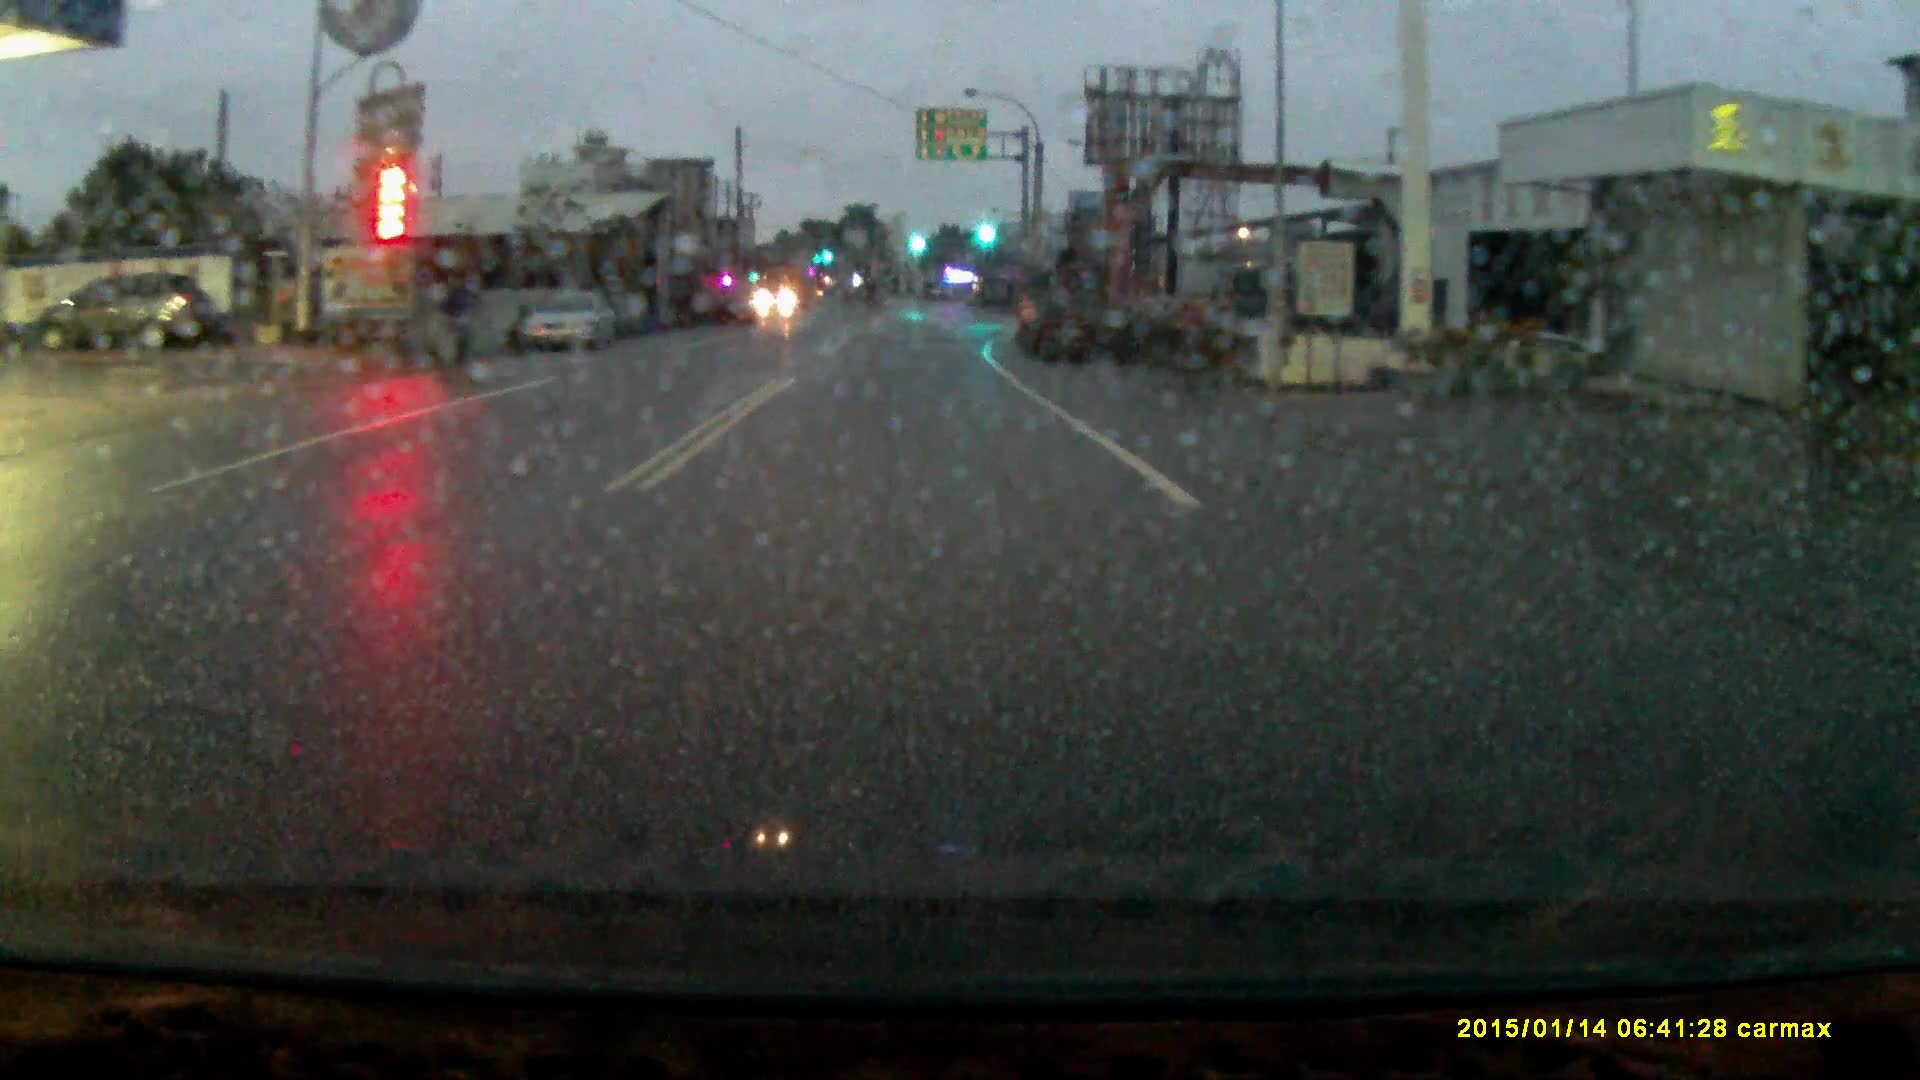rider: (398, 250, 499, 400)
vehicle: (16, 270, 210, 354), (1014, 267, 1105, 372), (521, 295, 635, 359)
